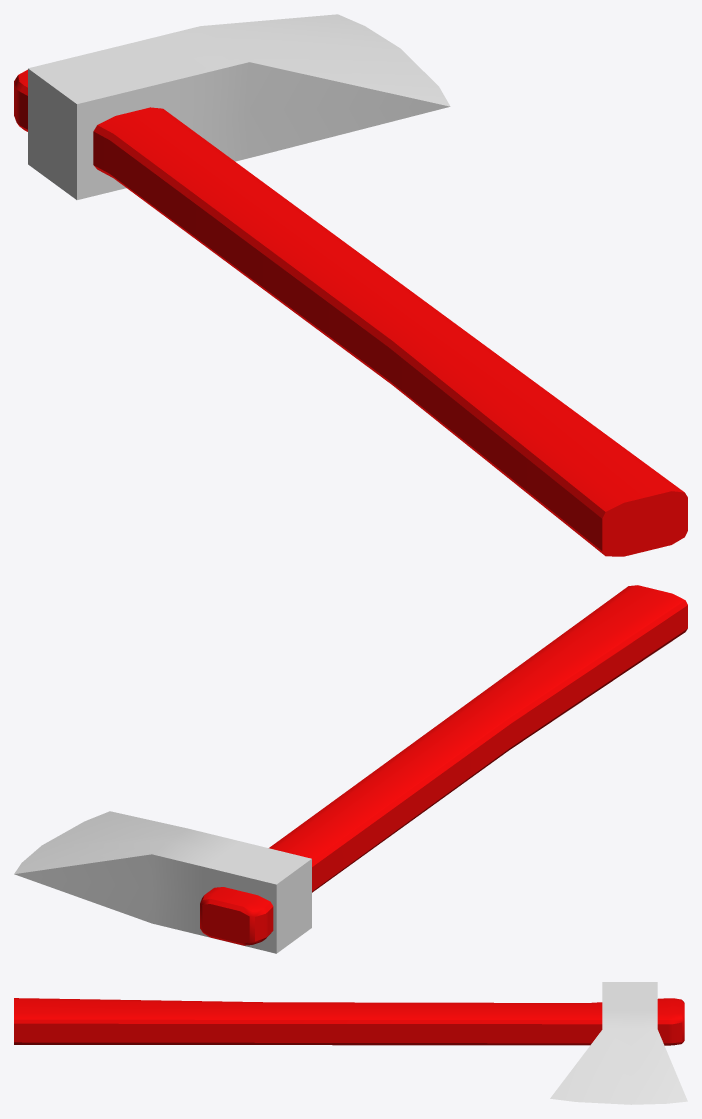
The model's file is Axe_03.fbx.
3 views of the same model, one above another, from view 1: azimuth 30°, elevation 25°; view 2: azimuth 150°, elevation 25°; view 3: azimuth 270°, elevation 25° (orthographic). The views are drawn at different scales.
Visible parts, largest first — view 1: Axe_03; view 2: Axe_03; view 3: Axe_03.
Boxes of the visible parts, <box> form: Axe_03: <box>14,14,687,556</box>; Axe_03: <box>14,585,687,953</box>; Axe_03: <box>14,982,687,1104</box>.
Size of the model in its own units: 3.8 by 1 by 11.32.
